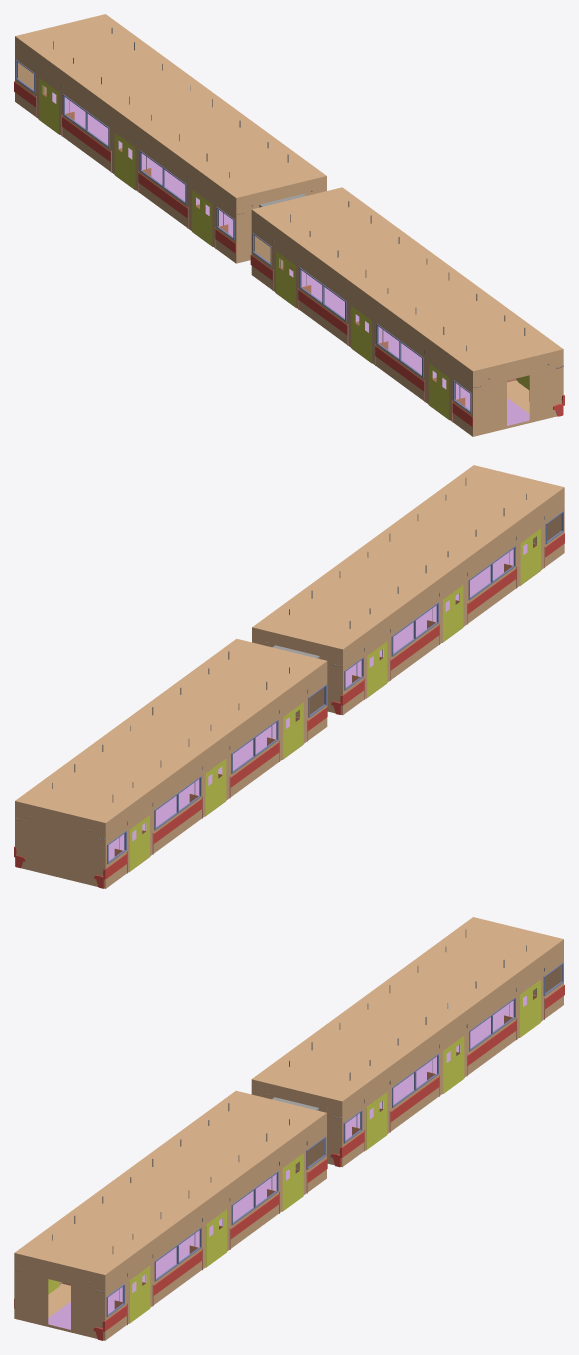
The model's file is Tren.fbx.
3 renders of one model, top to bottom at view 1: azimuth 30°, elevation 25°; view 2: azimuth 150°, elevation 25°; view 3: azimuth 330°, elevation 25°, orthographic.
Visible parts, largest first — view 1: Vagon.001, Vagon, Puerta lateral.002, Puerta lateral.011, Puerta lateral.003, Puerta lateral.010, Puerta lateral.012, Puerta lateral.001, Silla4, Silla4.003, Silla2.003, Silla2; view 2: Vagon, Vagon.001, Puerta lateral.002, Puerta lateral.011, Puerta lateral.012, Puerta lateral.003, Puerta lateral.010, Puerta lateral.001, Silla4, Silla2.003, Silla4.003, Silla2; view 3: Vagon.001, Vagon, Puerta lateral.005, Puerta lateral.006, Puerta lateral.007, Puerta lateral.009, Puerta lateral.008, Puerta lateral.004, Silla2.002, Silla4.001, Silla2.001, Silla4.002.
Boxes of the visible parts, x1=… form: Vagon.001: x1=251, y1=187, x2=563, y2=436; Vagon: x1=15, y1=14, x2=326, y2=263; Puerta lateral.002: x1=114, y1=133, x2=135, y2=190; Puerta lateral.011: x1=351, y1=306, x2=372, y2=363; Puerta lateral.003: x1=192, y1=190, x2=212, y2=246; Puerta lateral.010: x1=429, y1=363, x2=449, y2=420; Puerta lateral.012: x1=275, y1=251, x2=296, y2=308; Puerta lateral.001: x1=38, y1=78, x2=59, y2=134; Silla4: x1=138, y1=173, x2=187, y2=218; Silla4.003: x1=375, y1=346, x2=424, y2=391; Silla2.003: x1=298, y1=290, x2=347, y2=334; Silla2: x1=62, y1=116, x2=110, y2=161; Vagon: x1=15, y1=638, x2=327, y2=888; Vagon.001: x1=252, y1=465, x2=564, y2=715; Puerta lateral.002: x1=205, y1=759, x2=226, y2=816; Puerta lateral.011: x1=442, y1=585, x2=463, y2=642; Puerta lateral.012: x1=366, y1=641, x2=387, y2=698; Puerta lateral.003: x1=282, y1=702, x2=303, y2=759; Puerta lateral.010: x1=520, y1=529, x2=540, y2=585; Puerta lateral.001: x1=129, y1=815, x2=150, y2=872; Silla4: x1=230, y1=742, x2=279, y2=787; Silla2.003: x1=390, y1=625, x2=439, y2=670; Silla4.003: x1=467, y1=568, x2=516, y2=613; Silla2: x1=153, y1=799, x2=202, y2=843; Vagon.001: x1=14, y1=1090, x2=326, y2=1340; Vagon: x1=251, y1=917, x2=563, y2=1167; Puerta lateral.005: x1=443, y1=1036, x2=464, y2=1093; Puerta lateral.006: x1=366, y1=1092, x2=387, y2=1150; Puerta lateral.007: x1=129, y1=1266, x2=150, y2=1323; Puerta lateral.009: x1=282, y1=1154, x2=303, y2=1211; Puerta lateral.008: x1=205, y1=1210, x2=226, y2=1267; Puerta lateral.004: x1=519, y1=980, x2=540, y2=1037; Silla2.002: x1=153, y1=1250, x2=202, y2=1295; Silla4.001: x1=467, y1=1020, x2=516, y2=1065; Silla2.001: x1=390, y1=1076, x2=439, y2=1121; Silla4.002: x1=230, y1=1194, x2=279, y2=1239.
Size of the model in its own units: 3030 by 2334 by 26191.
